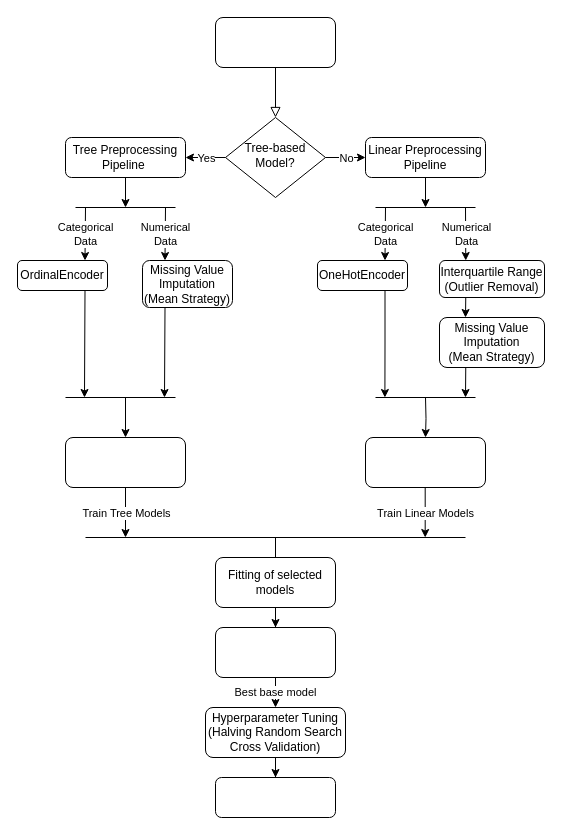
This 562x835 diagram has some shape labels left out. Each missing label, with the centre of its shape:
"Evaluation of performance" belongs at point (275, 652).
"Initiate Preprocessing for Selected ML Models" belongs at point (275, 42).
"Optimized Models" belongs at point (275, 797).
"Preprocessed Data (Linear Models)" belongs at point (425, 462).
"Preprocessed Data (Tree-based Models)" belongs at point (125, 462).
